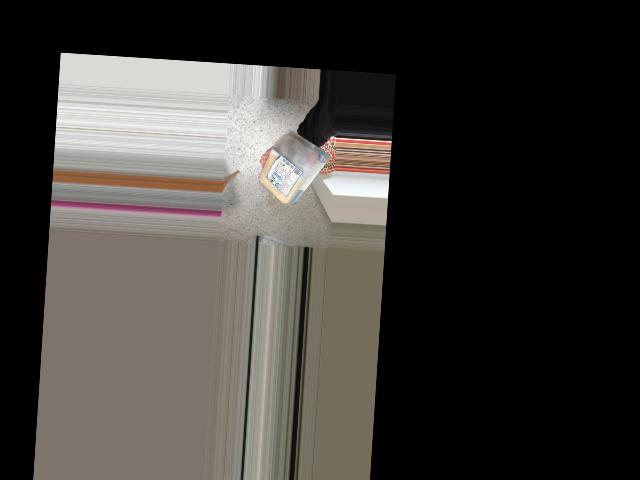cheese: (257, 135, 321, 204)
